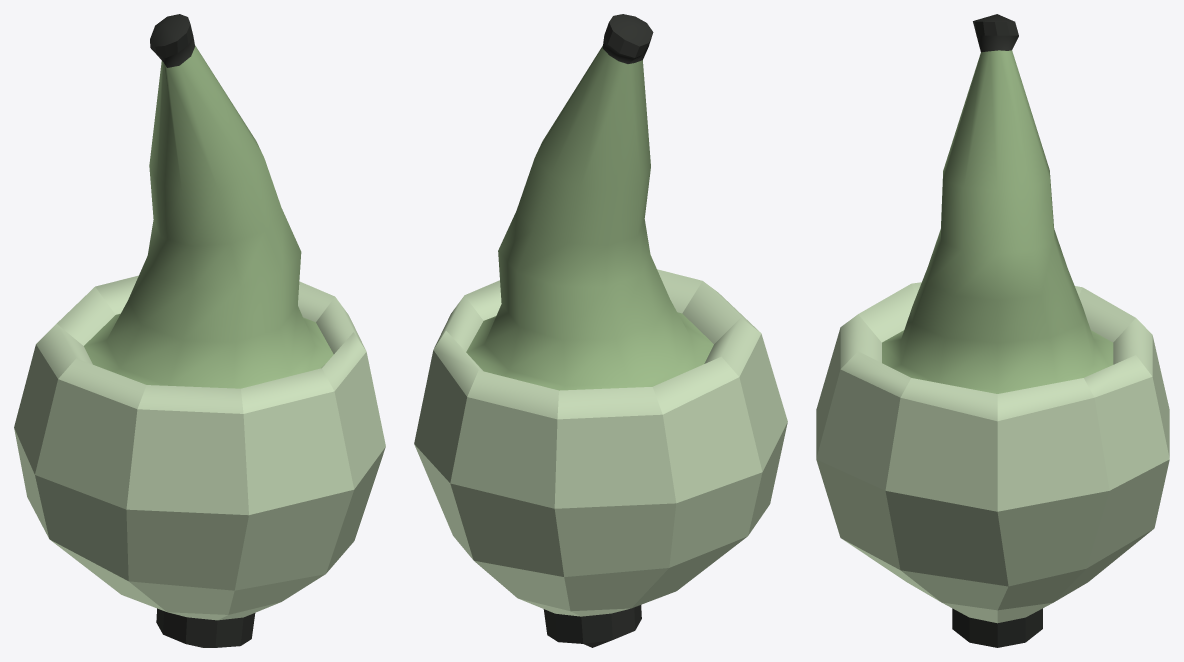
Rendered from Fruit.fbx.
3 views of the same model, side by side, from view 1: azimuth 30°, elevation 25°; view 2: azimuth 150°, elevation 25°; view 3: azimuth 270°, elevation 25° (orthographic). The views are drawn at different scales.
Visible parts, largest first — view 1: Fruit; view 2: Fruit; view 3: Fruit.
Boxes of the visible parts, x1=… form: Fruit: x1=14, y1=14, x2=385, y2=647; Fruit: x1=414, y1=14, x2=787, y2=647; Fruit: x1=816, y1=14, x2=1169, y2=647.
Bounding box in the file's own units: 1.92 × 3.52 × 1.85.
